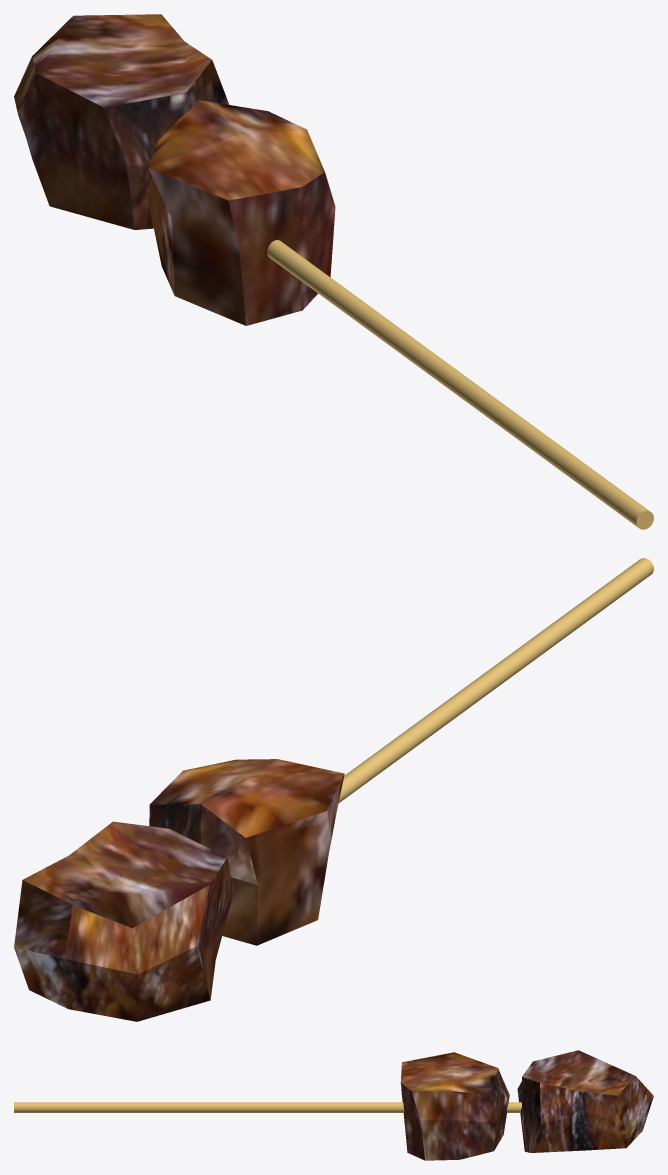
The model's file is muttonsatay2.fbx.
3 views of the same model, one above another, from view 1: azimuth 30°, elevation 25°; view 2: azimuth 150°, elevation 25°; view 3: azimuth 270°, elevation 25° (orthographic). The views are drawn at different scales.
Visible parts, largest first — view 1: Msatay2piecejoined; view 2: Msatay2piecejoined; view 3: Msatay2piecejoined.
Boxes of the visible parts, x1,y1,x2,y2 form: Msatay2piecejoined: [14, 14, 653, 529]; Msatay2piecejoined: [14, 558, 653, 1021]; Msatay2piecejoined: [14, 1050, 653, 1160].
Size of the model in its own units: 137 by 116 by 834.
2 materials, 1 textured.
